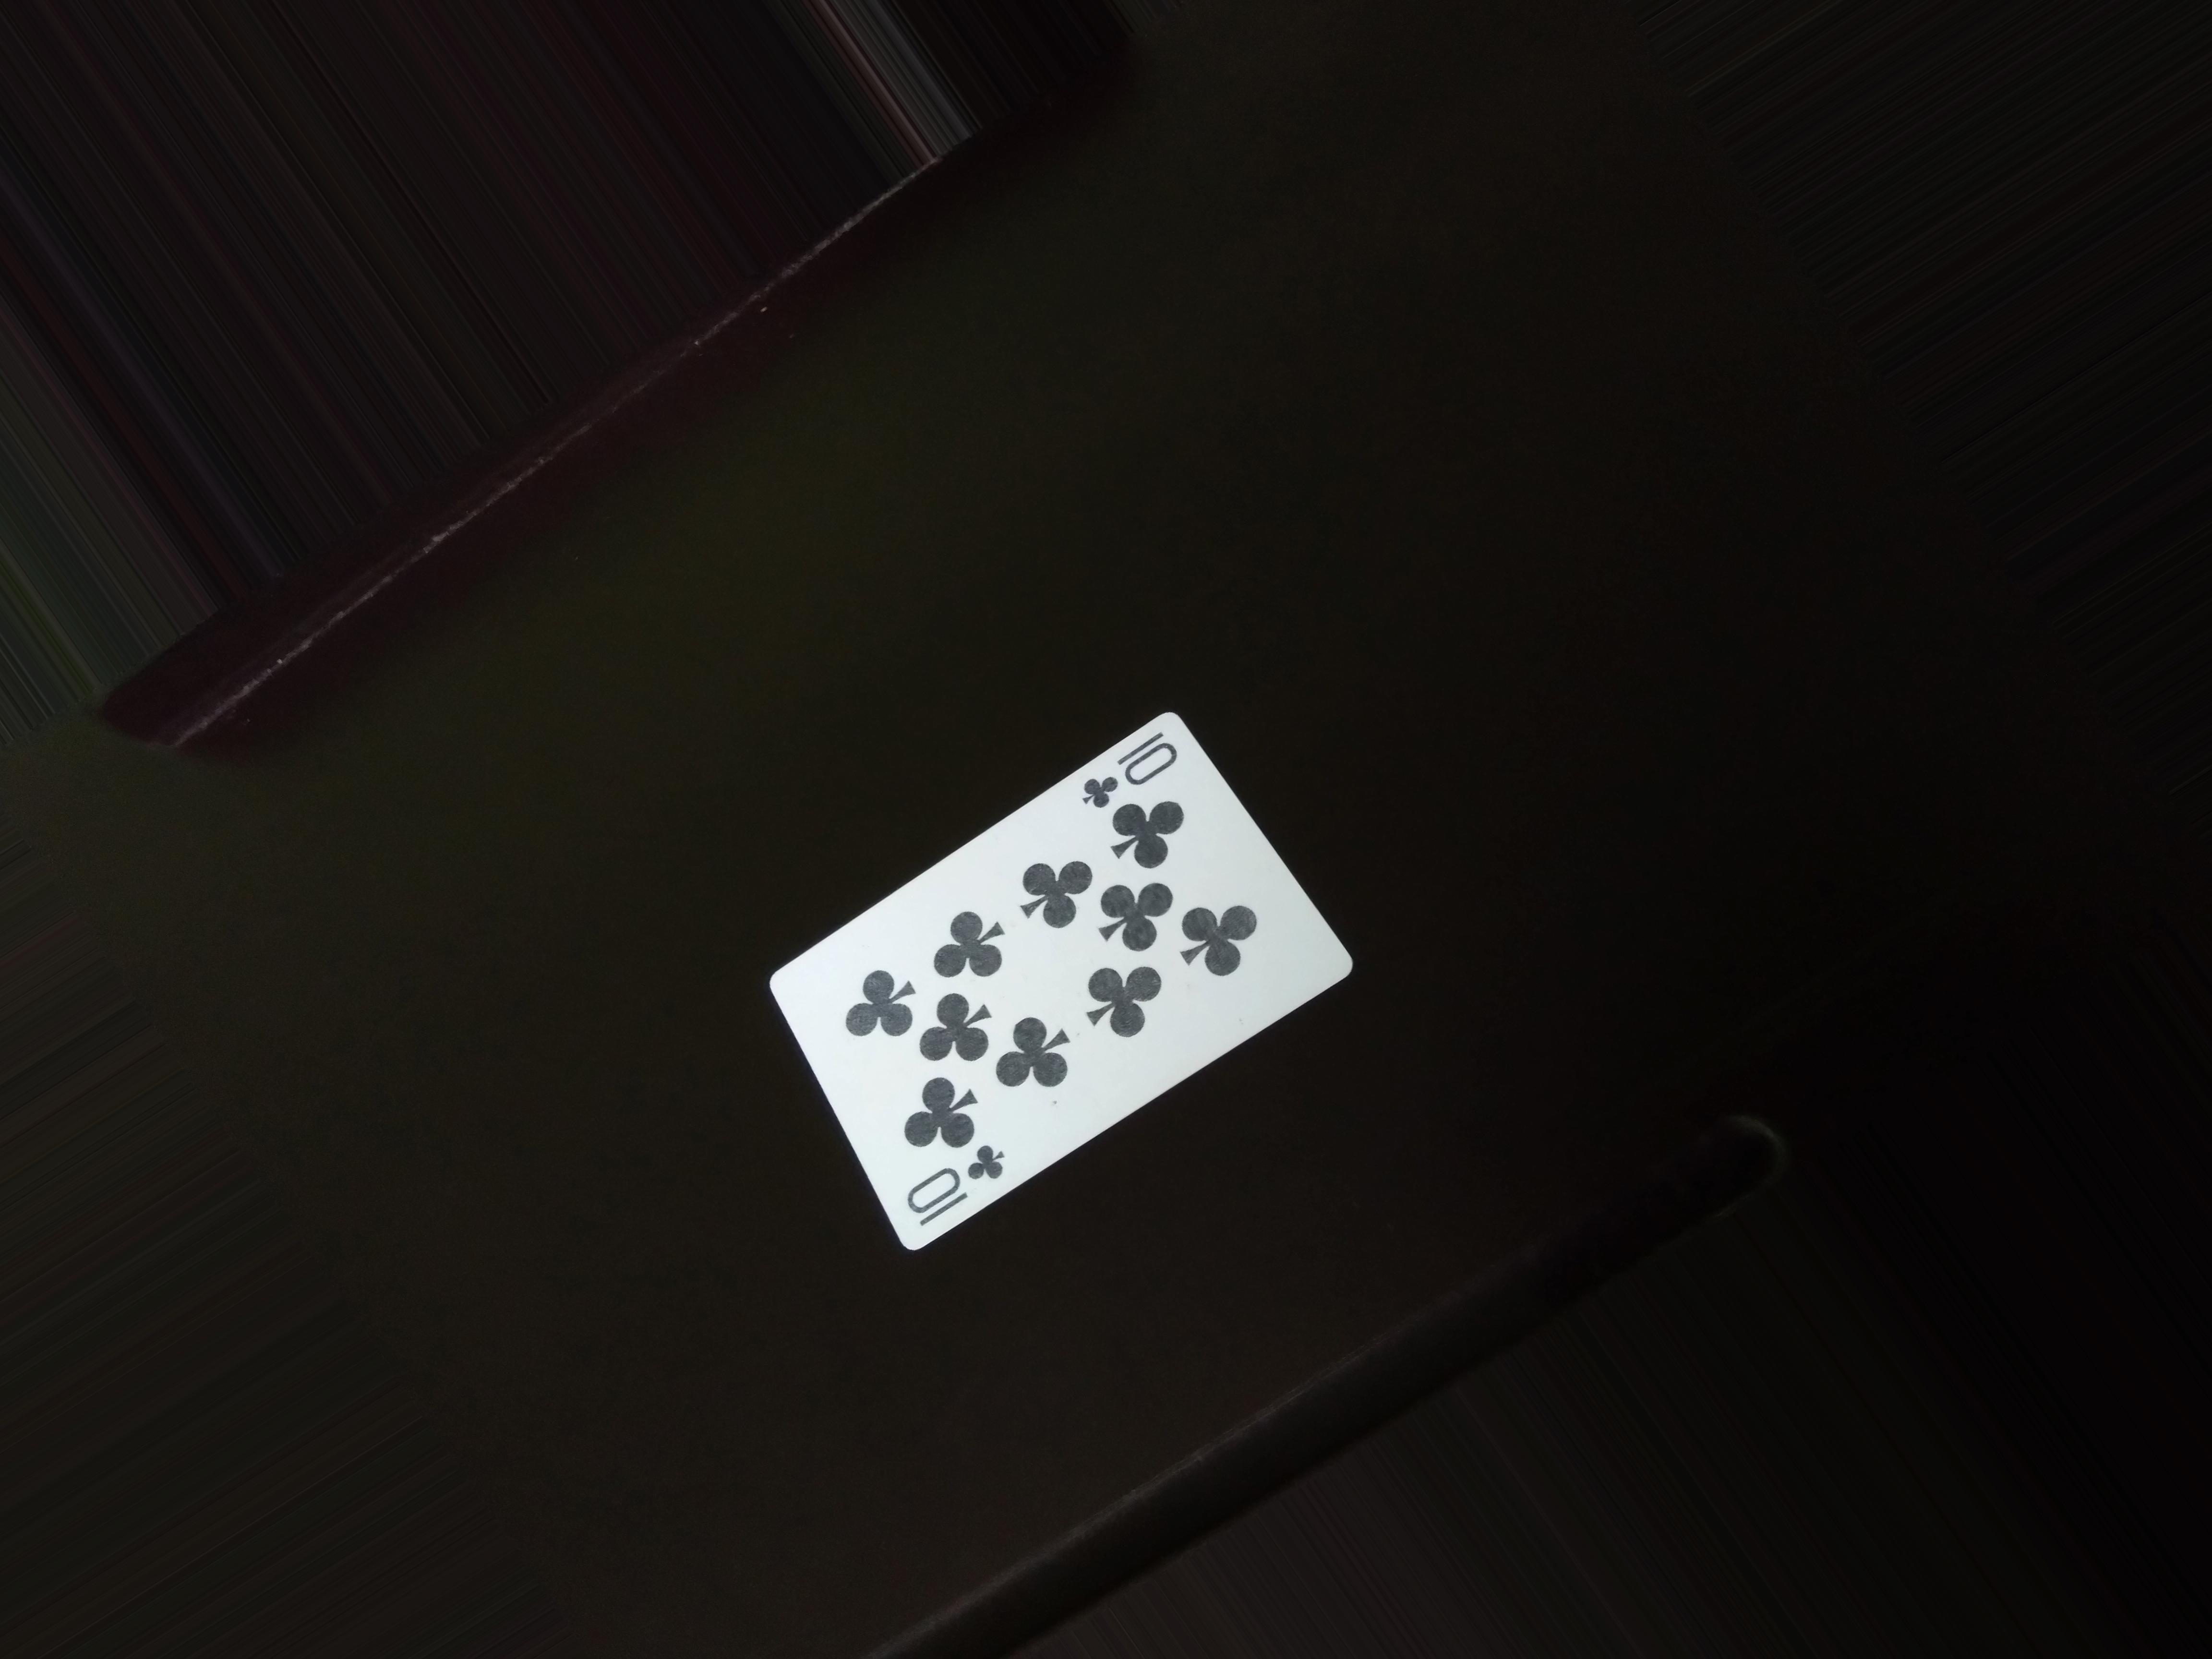10C: (1078, 732, 1197, 816)
